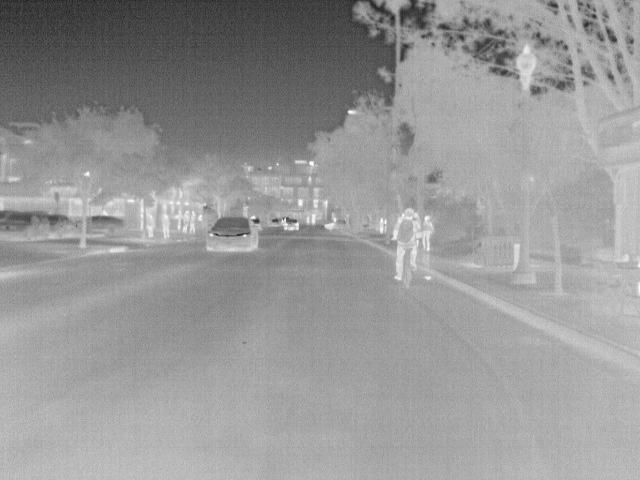car: (204, 218, 257, 252), (3, 211, 49, 242), (43, 213, 75, 239), (86, 213, 125, 234), (322, 218, 348, 232), (282, 218, 302, 232), (248, 220, 262, 232), (267, 216, 281, 228)
person: (392, 209, 421, 283), (421, 215, 435, 249), (160, 212, 173, 239), (179, 208, 191, 234), (171, 209, 183, 231), (187, 210, 198, 234), (145, 213, 155, 239), (376, 216, 386, 236)
